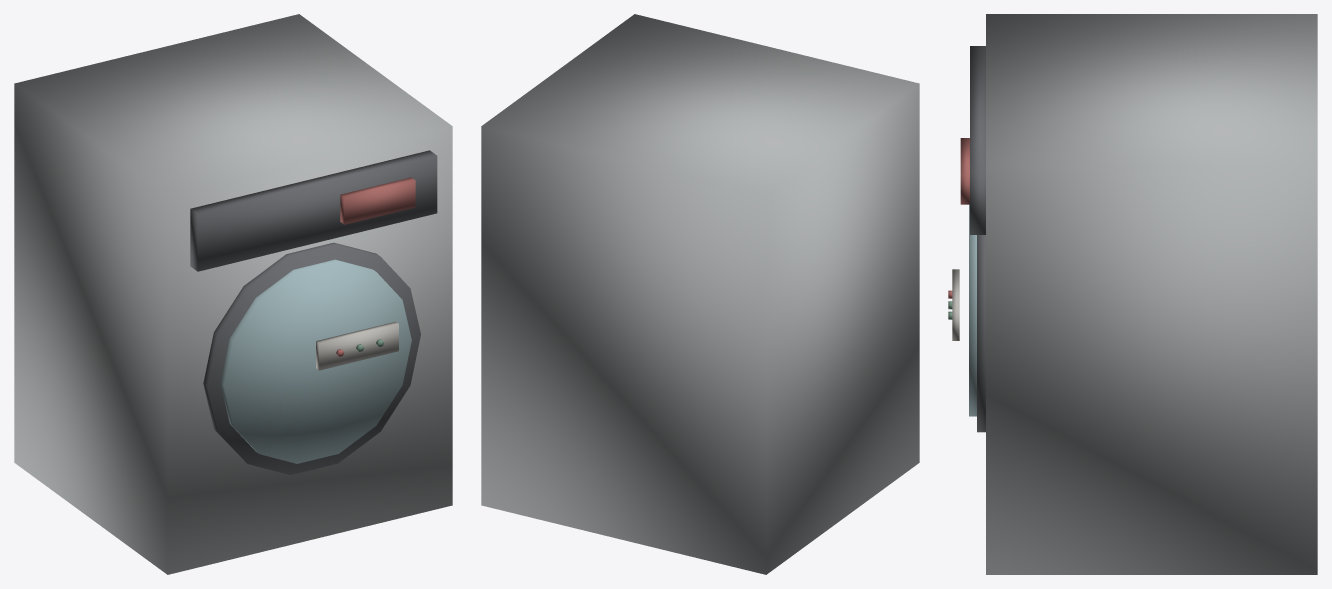
File: industrial_dryer.glb
3 views of the same model, side by side, from view 1: azimuth 30°, elevation 25°; view 2: azimuth 150°, elevation 25°; view 3: azimuth 270°, elevation 25° (orthographic). The views are drawn at different scales.
Visible parts, largest first — view 1: world; view 2: world; view 3: world.
Boxes of the visible parts, <box> form: world: <box>14,14,452,574</box>; world: <box>481,14,919,574</box>; world: <box>948,14,1317,574</box>.
Size of the model in its own units: 0.88 by 1.12 by 0.9135.
